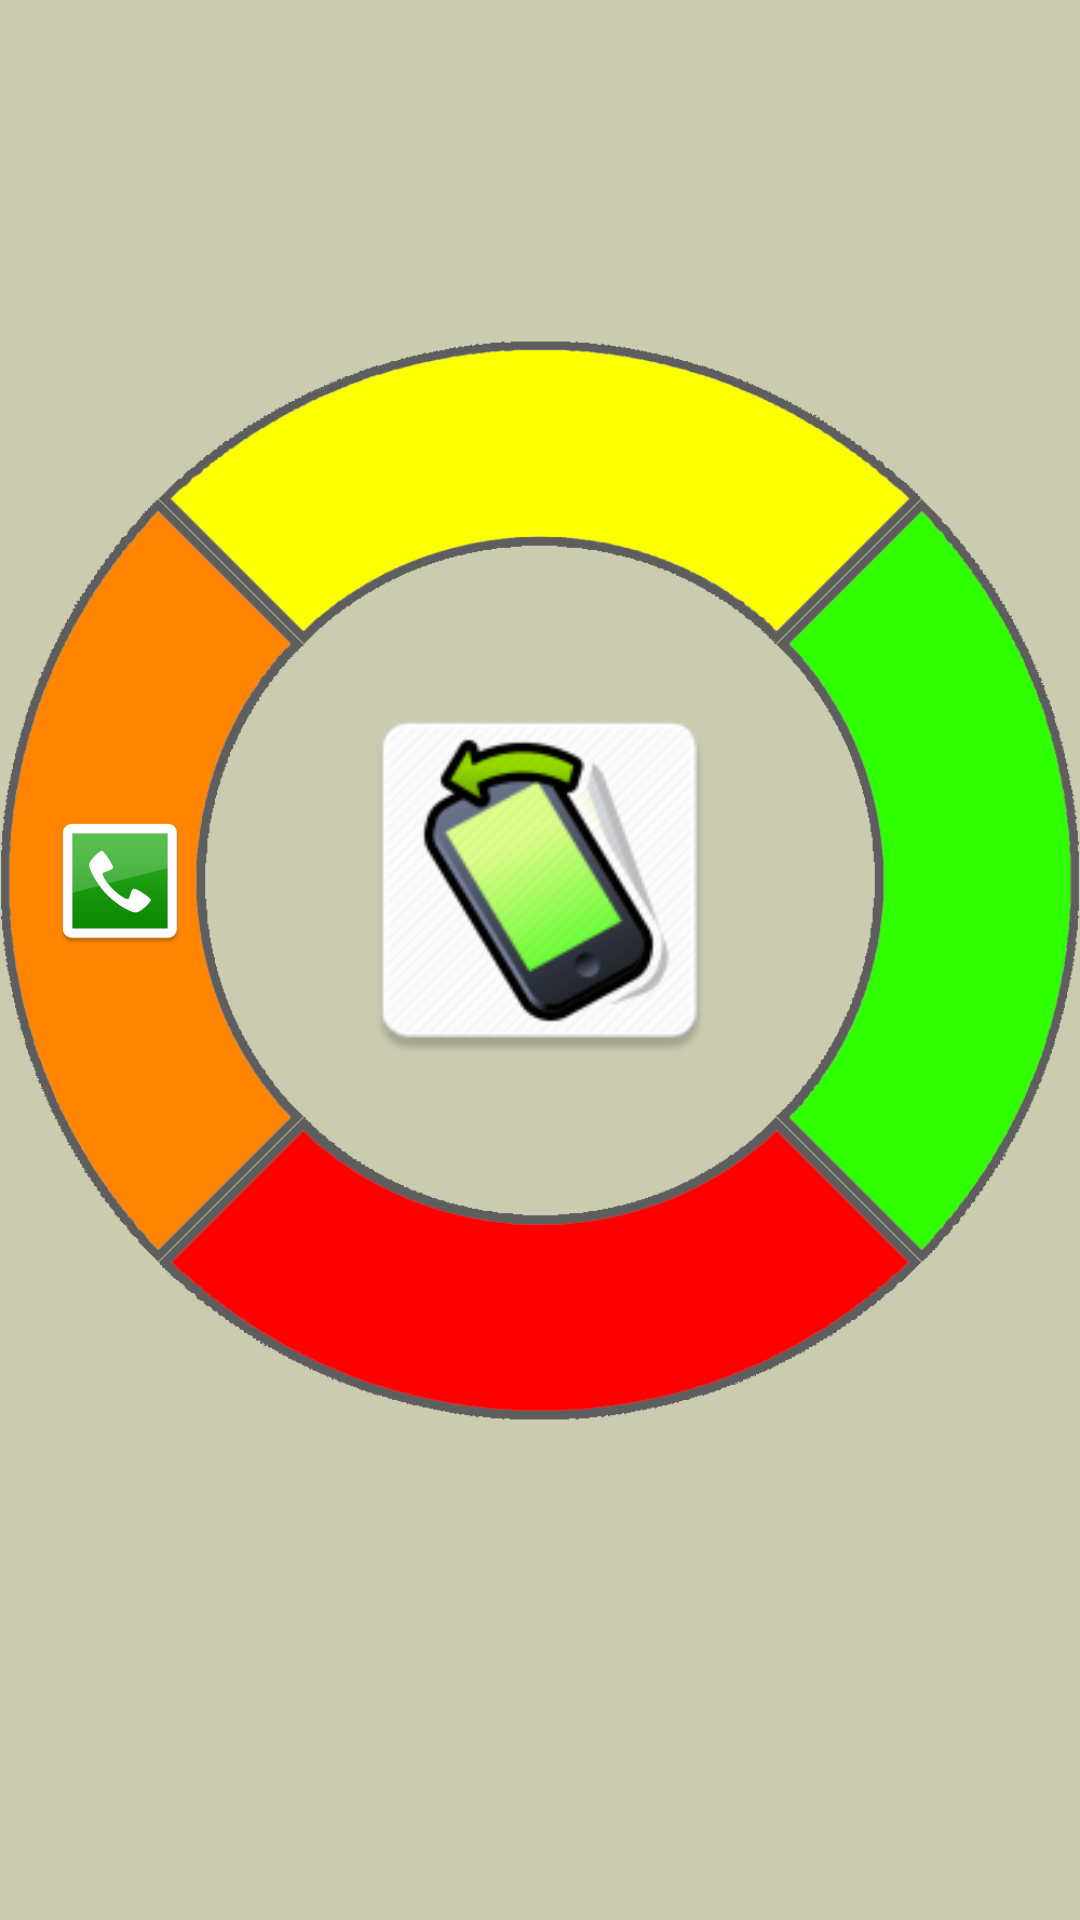

Where to tap for icons on this 1080w x 1920h app screen, as (x=x, y=y):
call: (x=120, y=882)
tilt: (x=540, y=884)
